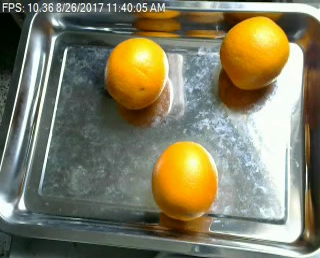Orange: (150, 140, 217, 220), (220, 16, 290, 89), (105, 37, 169, 110)
